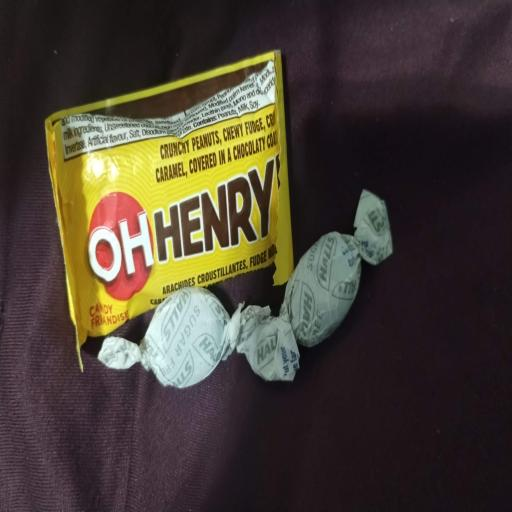chocolate: (46, 52, 293, 348), (280, 190, 392, 346), (99, 288, 242, 387)
